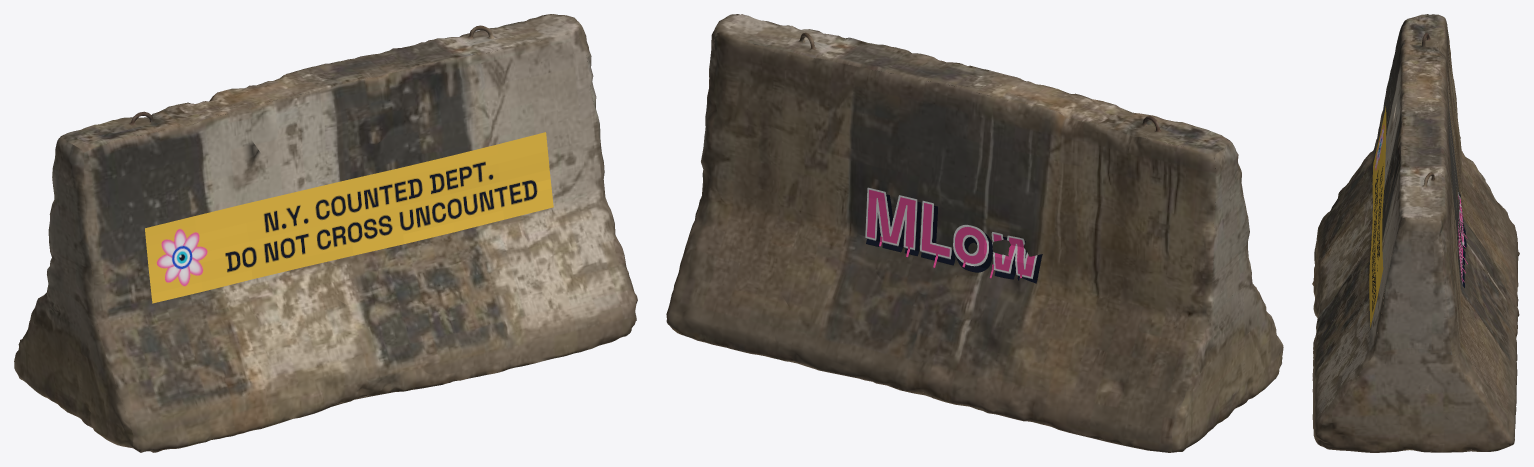
The model's file is nyb_barrier.glb.
3 renders of one model, left to right at view 1: azimuth 30°, elevation 25°; view 2: azimuth 150°, elevation 25°; view 3: azimuth 270°, elevation 25°, orthographic. The views are drawn at different scales.
Parts seen in each view (by area): view 1: concrete_road_barrier, stk_lbl_1fa24dba1a.png; view 2: concrete_road_barrier, stk_tag_mlow.png; view 3: concrete_road_barrier, stk_lbl_1fa24dba1a.png, stk_tag_mlow.png.
Part boxes in pixels (left/top/right/bottom): concrete_road_barrier: left=14, top=14, right=637, bottom=452; stk_lbl_1fa24dba1a.png: left=145, top=132, right=553, bottom=303; concrete_road_barrier: left=666, top=14, right=1283, bottom=452; stk_tag_mlow.png: left=865, top=187, right=1042, bottom=283; concrete_road_barrier: left=1312, top=14, right=1519, bottom=452; stk_lbl_1fa24dba1a.png: left=1369, top=106, right=1386, bottom=327; stk_tag_mlow.png: left=1458, top=192, right=1467, bottom=287.
Size of the model in its own units: 1.55 by 0.8309 by 0.6387.
Materials: 3 (3 with a texture image).
